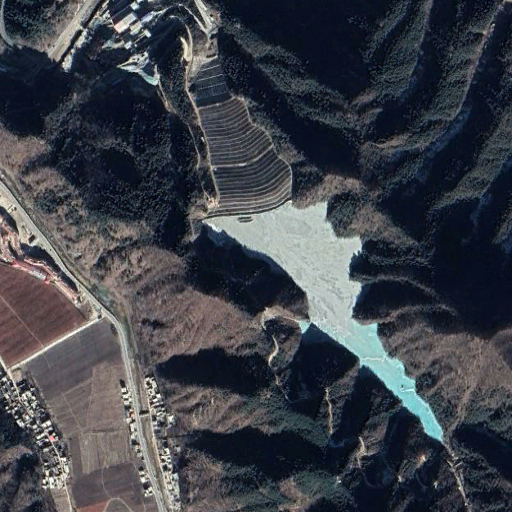tp: (182, 59, 444, 439)
